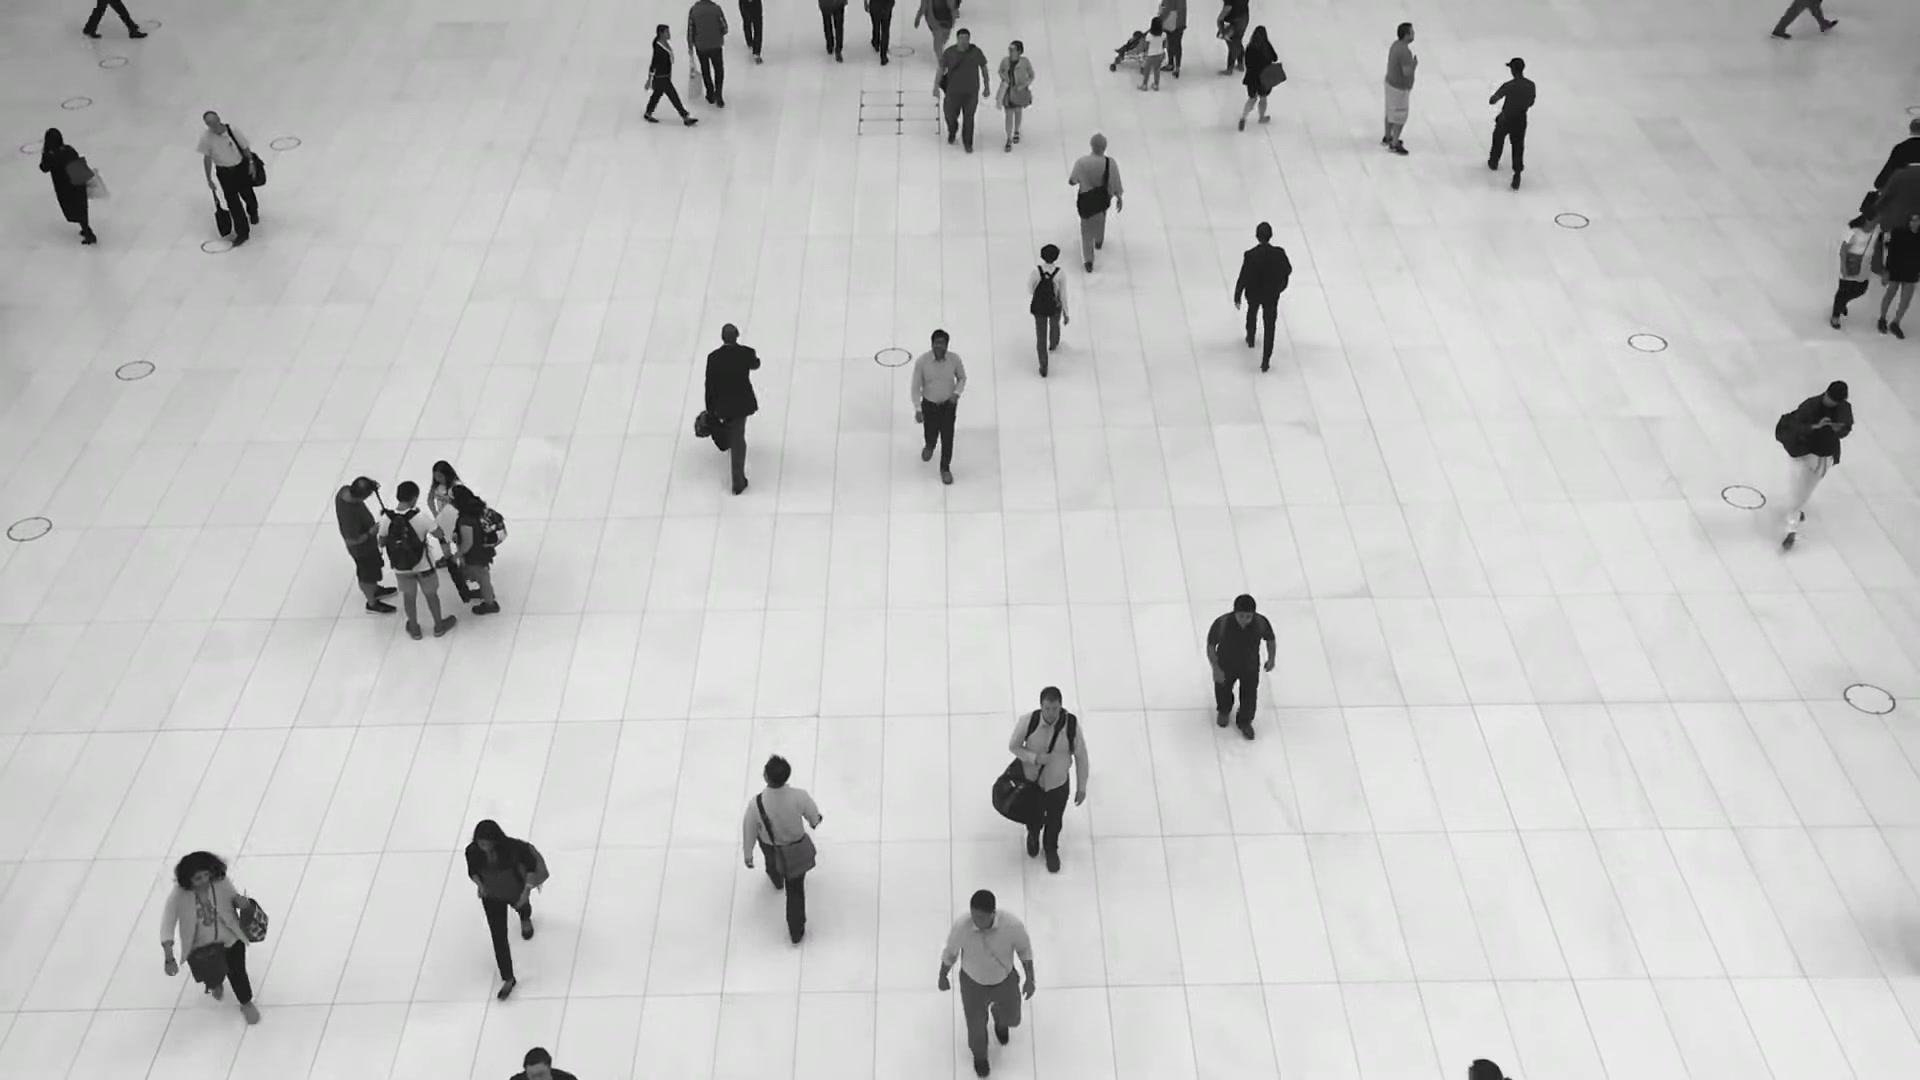person: (938, 886, 1038, 1075), (158, 848, 263, 1024), (741, 752, 823, 942), (1006, 685, 1087, 873), (377, 478, 459, 638), (1777, 379, 1853, 550), (464, 816, 536, 997), (1204, 593, 1276, 747), (702, 322, 761, 494), (334, 468, 400, 613), (1232, 219, 1294, 369), (909, 327, 967, 484), (196, 109, 260, 244), (1068, 131, 1125, 271), (931, 27, 990, 153), (39, 127, 97, 248), (449, 482, 501, 613), (1488, 56, 1537, 187), (1829, 206, 1881, 329), (1027, 243, 1071, 382), (640, 22, 696, 127), (1876, 212, 1919, 342), (1380, 21, 1418, 155), (685, 0, 730, 108), (425, 459, 463, 580), (995, 40, 1035, 152), (1238, 24, 1279, 130), (1136, 16, 1166, 91)
